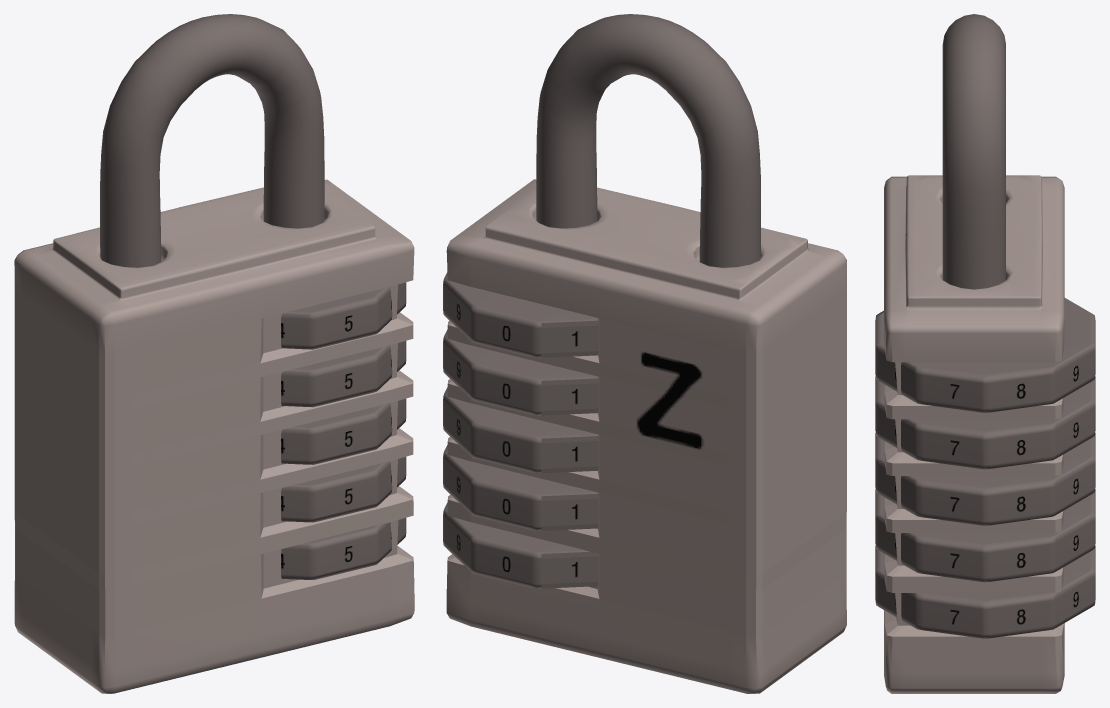
The model's file is lock5.fbx.
3 views of the same model, side by side, from view 1: azimuth 30°, elevation 25°; view 2: azimuth 150°, elevation 25°; view 3: azimuth 270°, elevation 25° (orthographic). The views are drawn at different scales.
Parts seen in each view (by area): view 1: lock5_body1, lock5_dial1, lock5_dial2, lock5_dial3, lock5_dial4, lock5_dial5; view 2: lock5_body1, lock5_dial1, lock5_dial2, lock5_dial3, lock5_dial4, lock5_dial5; view 3: lock5_body1, lock5_dial1, lock5_dial2, lock5_dial3, lock5_dial4, lock5_dial5.
Boxes of the visible parts, box(x1,y1,x2,y2) form: lock5_body1: box(14, 14, 414, 693); lock5_dial1: box(281, 282, 406, 349); lock5_dial2: box(281, 341, 406, 407); lock5_dial3: box(281, 398, 406, 464); lock5_dial4: box(281, 457, 406, 522); lock5_dial5: box(281, 518, 406, 579); lock5_body1: box(446, 14, 846, 693); lock5_dial1: box(443, 272, 598, 357); lock5_dial2: box(443, 329, 598, 415); lock5_dial3: box(443, 387, 598, 473); lock5_dial4: box(443, 445, 598, 530); lock5_dial5: box(443, 502, 598, 588); lock5_body1: box(884, 14, 1064, 693); lock5_dial1: box(875, 298, 1095, 412); lock5_dial2: box(875, 377, 1095, 469); lock5_dial3: box(875, 433, 1095, 525); lock5_dial4: box(875, 489, 1095, 582); lock5_dial5: box(875, 546, 1095, 638).
Bounding box in the file's own units: 3.72 × 6.36 × 2.13.
Materials: 2 (2 with a texture image).
